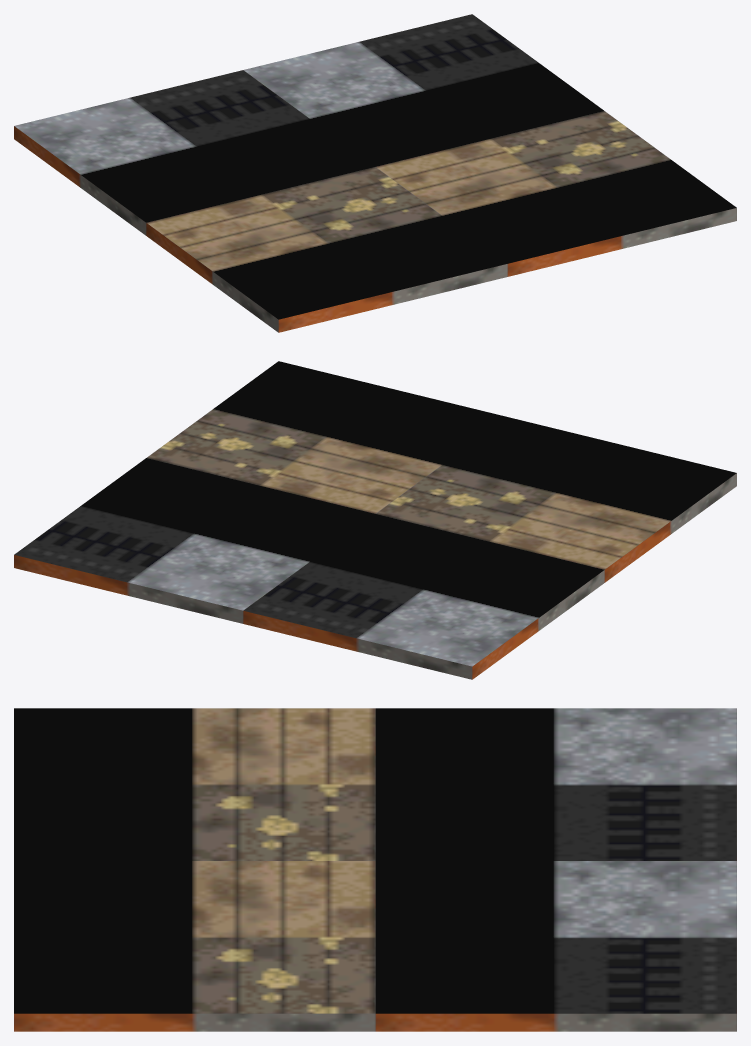
File: SM_edge_straight.fbx
3 views of the same model, one above another, from view 1: azimuth 30°, elevation 25°; view 2: azimuth 150°, elevation 25°; view 3: azimuth 270°, elevation 25° (orthographic). The views are drawn at different scales.
Parts seen in each view (by area): view 1: edge_straight; view 2: edge_straight; view 3: edge_straight.
Part boxes in pixels (x1,y1,x2,y2): edge_straight: (14,14,736,332); edge_straight: (14,361,736,679); edge_straight: (14,708,736,1031).
Bounding box in the file's own units: 4 × 0.11 × 4.
